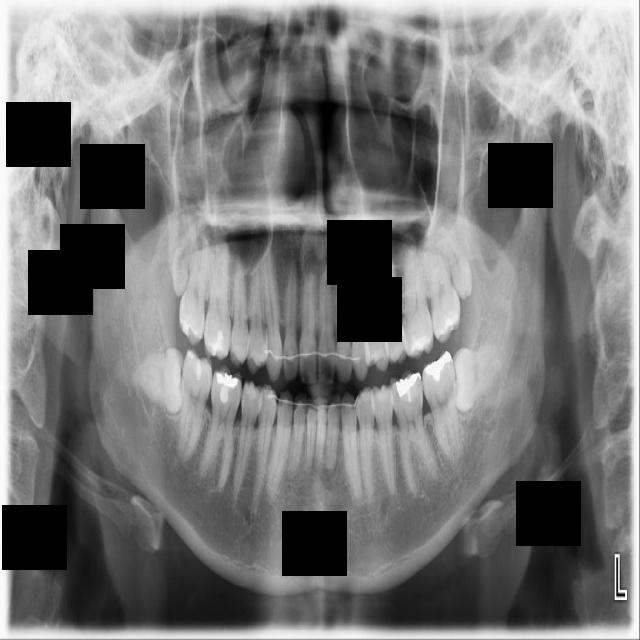3M ESPE Implant: (164, 217, 203, 299)
52: (413, 348, 464, 406), (174, 344, 220, 403), (205, 363, 247, 421), (387, 369, 428, 425), (204, 309, 232, 359), (179, 293, 205, 345)
73: (614, 566, 616, 575)
BioHorizons Implant: (420, 223, 465, 345)
BioLife Implant: (442, 221, 476, 302)
Biomet 3i Implant: (449, 341, 505, 414)
Blue Sky Bio Implant: (415, 349, 475, 465)
Caries: (176, 229, 213, 348)
Implant: (176, 346, 214, 463)
Keystone Dental Implant: (132, 343, 206, 423)
